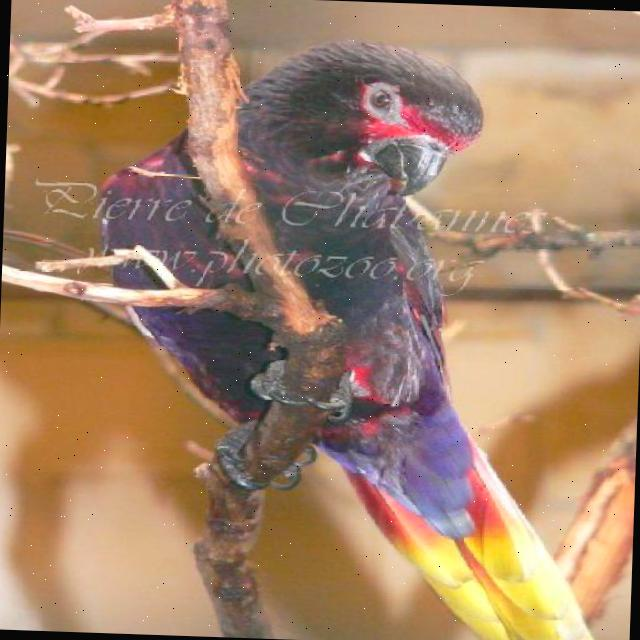Nuri Hitam: (32, 14, 640, 640)
